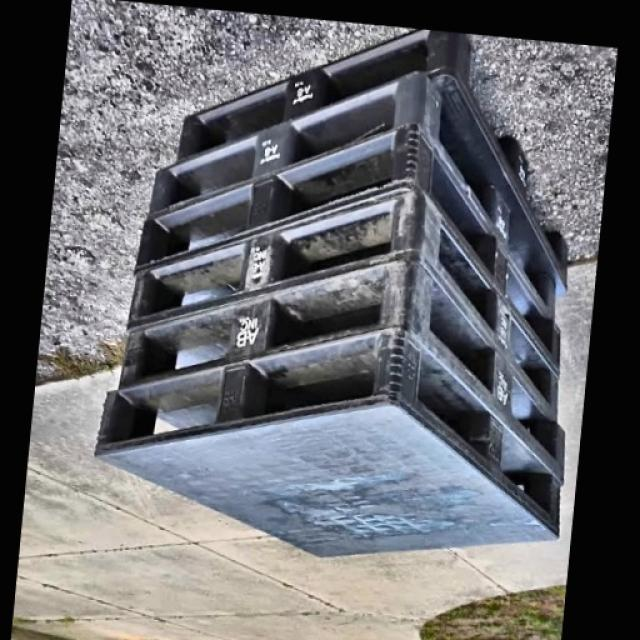non-igps: (84, 313, 567, 562), (129, 114, 567, 386), (113, 241, 574, 490), (171, 20, 573, 302), (144, 62, 560, 329), (120, 178, 566, 426)
